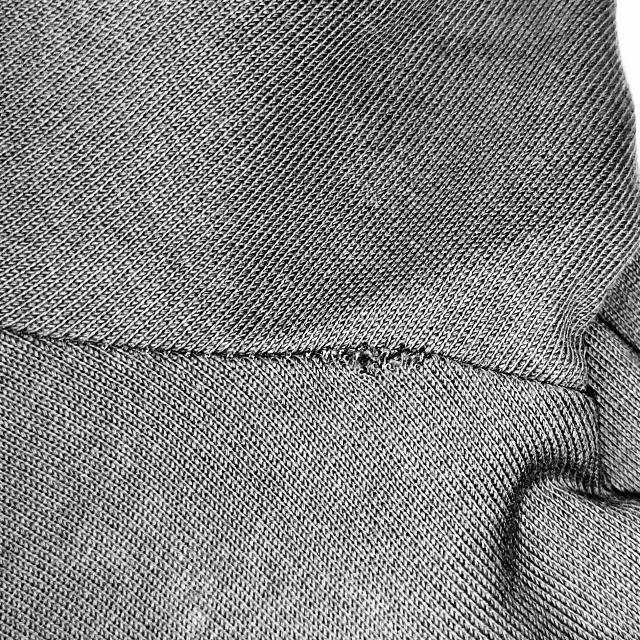Sewing_error: (325, 331, 418, 377)
